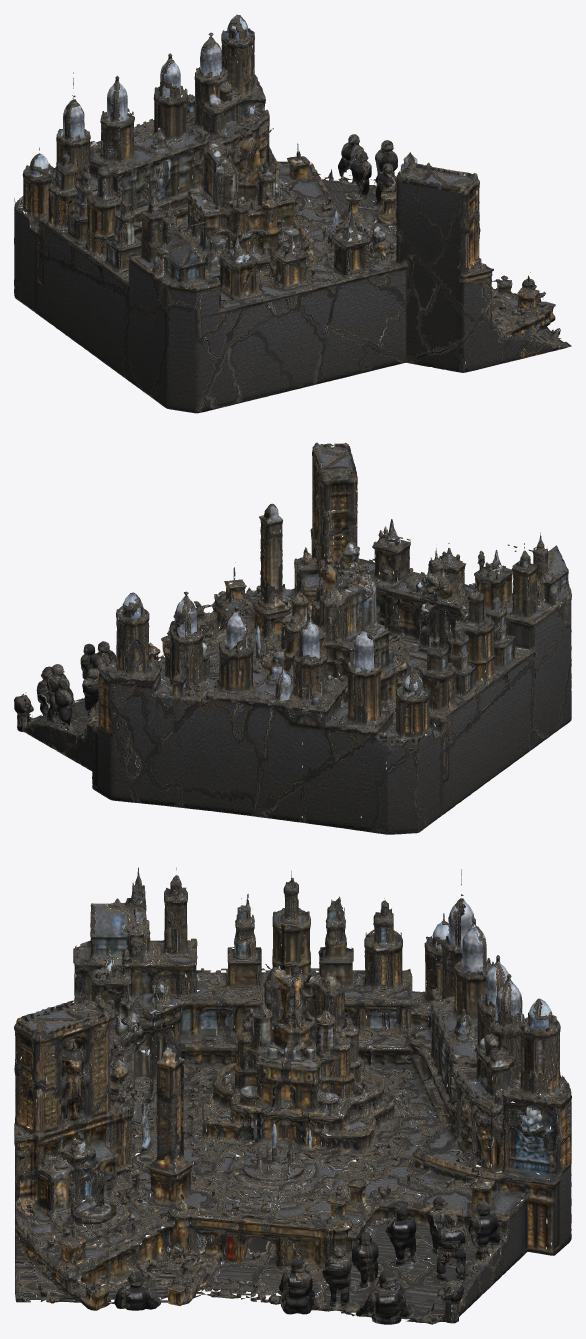
File: SILMARI_LLION_MEGAPOLE_LUBIAK.glb
3 views of the same model, one above another, from view 1: azimuth 30°, elevation 25°; view 2: azimuth 150°, elevation 25°; view 3: azimuth 270°, elevation 25° (orthographic). The views are drawn at different scales.
Parts seen in each view (by area): view 1: SILMARI_LLION_MEGAPOLE; view 2: SILMARI_LLION_MEGAPOLE; view 3: SILMARI_LLION_MEGAPOLE.
Part boxes in pixels (left/top/right/bottom): SILMARI_LLION_MEGAPOLE: left=14, top=14, right=571, bottom=413; SILMARI_LLION_MEGAPOLE: left=14, top=442, right=571, bottom=834; SILMARI_LLION_MEGAPOLE: left=14, top=867, right=571, bottom=1324.
Bounding box in the file's own units: 0.9795 × 0.4925 × 0.9658.
Materials: 1 (1 with a texture image).
